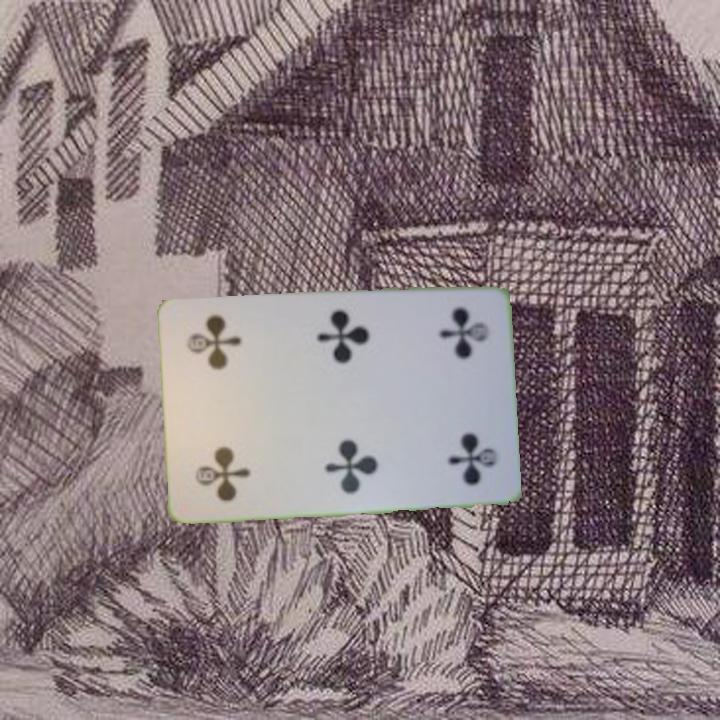c_6.png: (408, 298, 499, 402), (178, 404, 269, 508)
